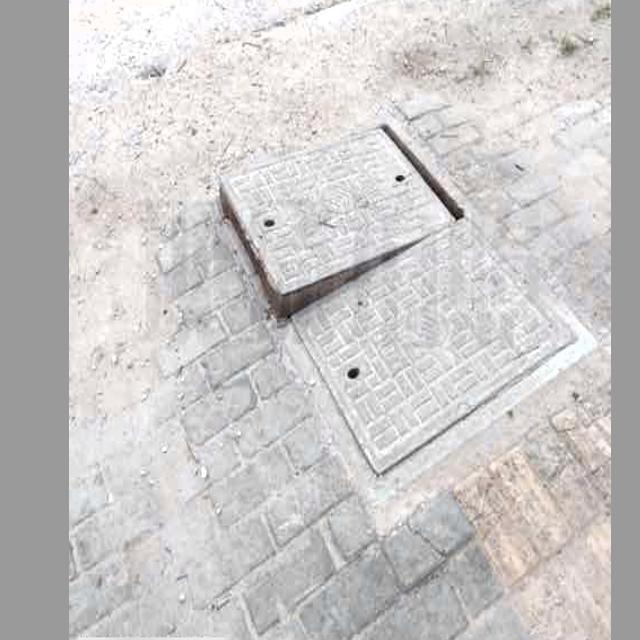uncovered: (210, 113, 595, 493)
